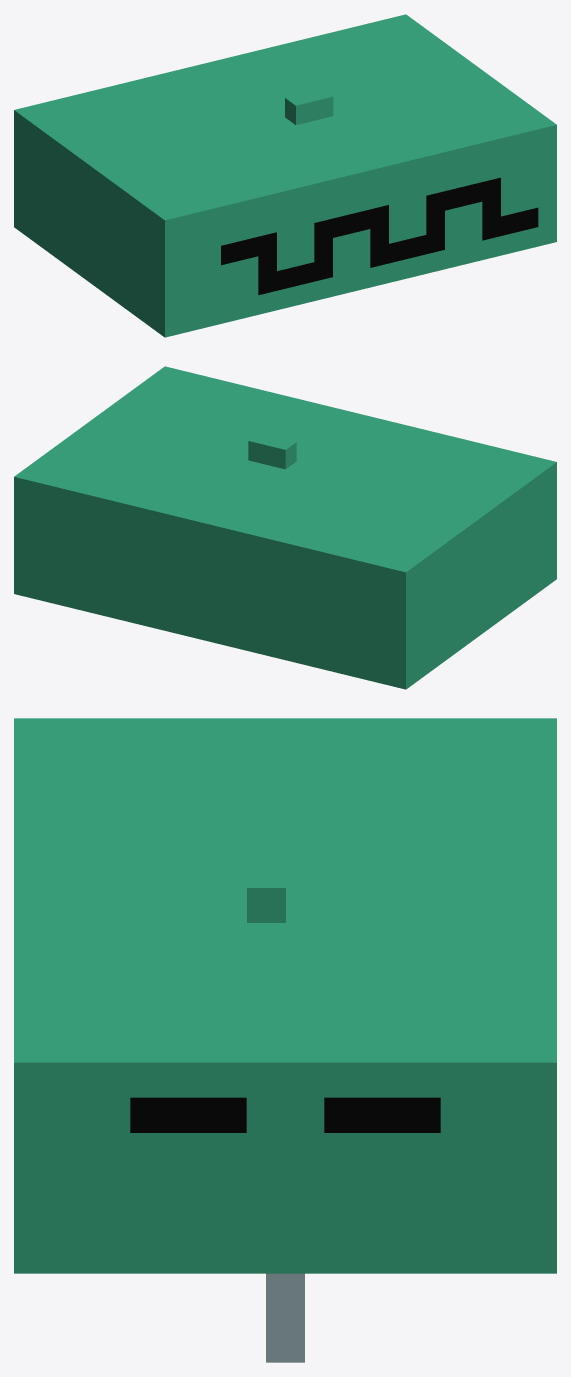
The model's file is crochat.glb.
3 views of the same model, one above another, from view 1: azimuth 30°, elevation 25°; view 2: azimuth 150°, elevation 25°; view 3: azimuth 270°, elevation 25° (orthographic). The views are drawn at different scales.
Parts seen in each view (by area): view 1: base, mouth, 1 (5); view 2: base, 1 (5); view 3: base, nose, monture, 1 (5).
Boxes of the visible parts, x1=… form: base: x1=14, y1=14, x2=556, y2=337; mouth: x1=221, y1=177, x2=538, y2=295; 1 (5): x1=285, y1=88, x2=333, y2=124; base: x1=14, y1=366, x2=556, y2=689; 1 (5): x1=248, y1=433, x2=296, y2=469; base: x1=14, y1=718, x2=556, y2=1273; nose: x1=130, y1=1097, x2=440, y2=1132; monture: x1=266, y1=1273, x2=304, y2=1362; 1 (5): x1=247, y1=855, x2=285, y2=922.
Size of the model in its own units: 21 by 10 by 14.
Materials: 8 (8 with a texture image).
